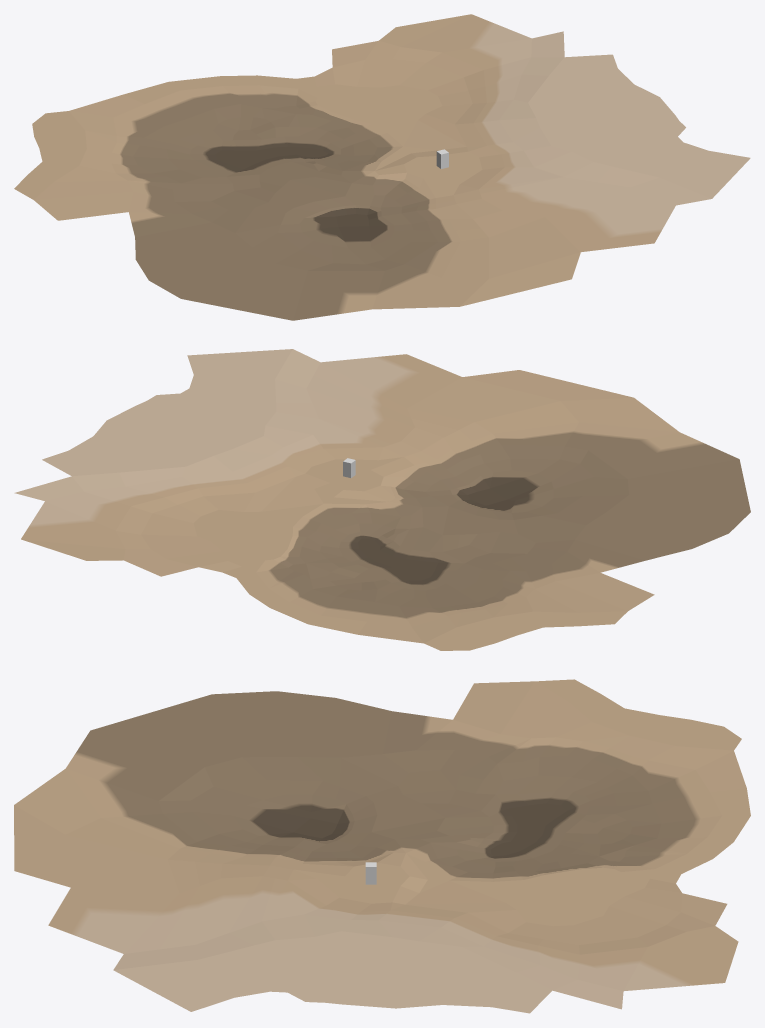
File: lowerTerrainB_postTest.gltf
3 views of the same model, one above another, from view 1: azimuth 30°, elevation 25°; view 2: azimuth 150°, elevation 25°; view 3: azimuth 270°, elevation 25° (orthographic). The views are drawn at different scales.
Visible parts, largest first — view 1: lowerTerrain; view 2: lowerTerrain; view 3: lowerTerrain.
Part boxes in pixels (left/top/right/bottom): lowerTerrain: left=14, top=14, right=750, bottom=320; lowerTerrain: left=14, top=349, right=750, bottom=650; lowerTerrain: left=14, top=679, right=750, bottom=1013.
Size of what is drawn, in the model's own units: 146 by 6 by 133.
Materials: 1 (1 with a texture image).
